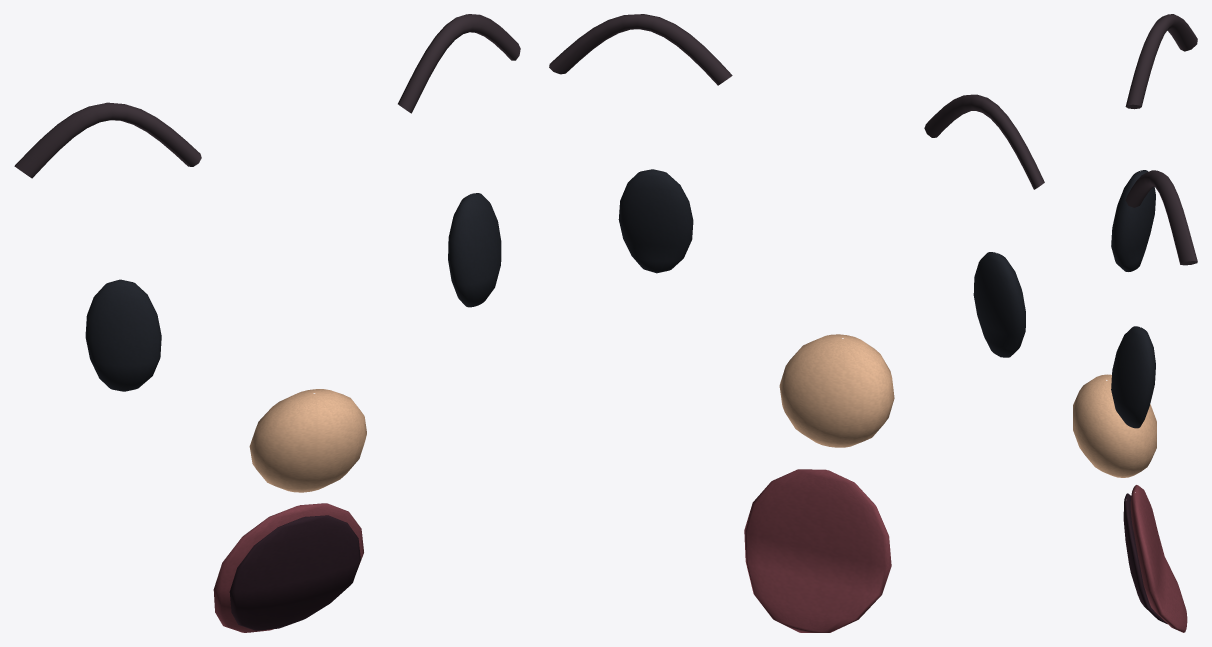
Rendered from face_shocked.gltf.
3 views of the same model, side by side, from view 1: azimuth 30°, elevation 25°; view 2: azimuth 150°, elevation 25°; view 3: azimuth 270°, elevation 25° (orthographic). The views are drawn at different scales.
Parts seen in each view (by area): view 1: Speechless; view 2: Speechless; view 3: Speechless.
Part boxes in pixels (bbox=[...]): Speechless: bbox=[14, 14, 520, 632]; Speechless: bbox=[549, 14, 1044, 632]; Speechless: bbox=[1073, 14, 1197, 632].
Bounding box in the file's own units: 0.261 × 0.287 × 0.0614.
5 materials, 5 textured.
